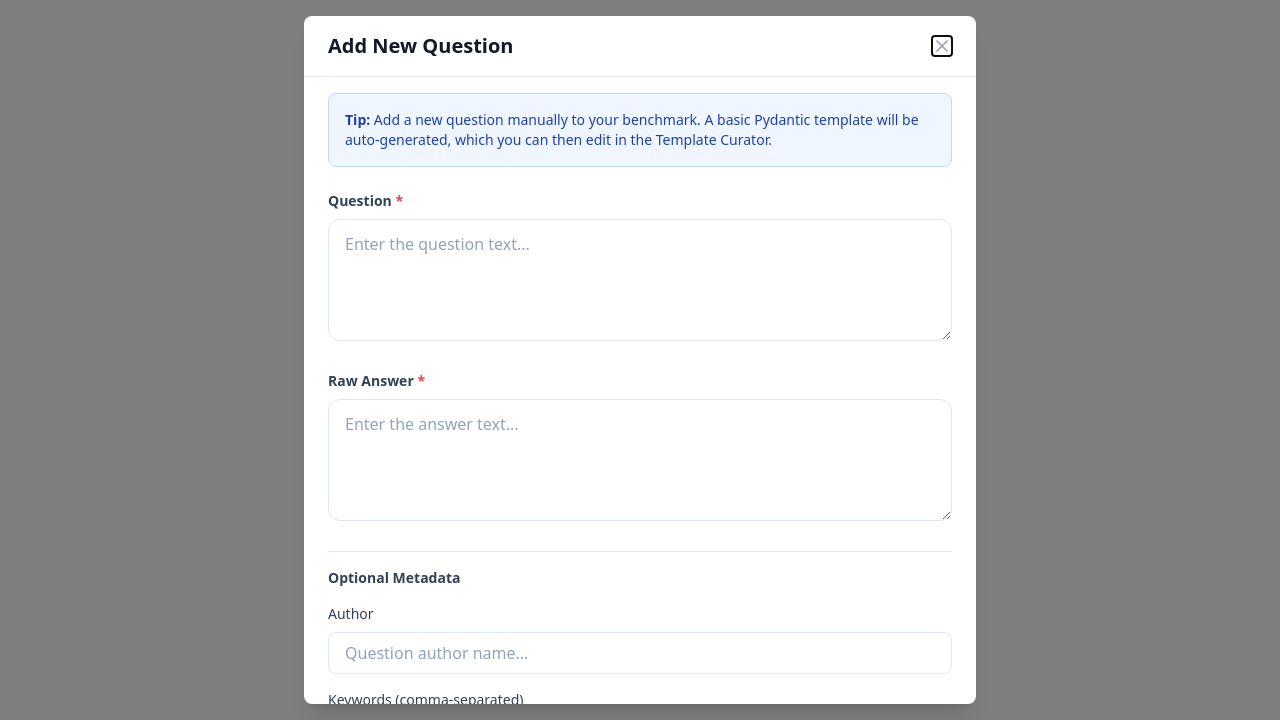
Test: AddQuestionModal › Template Generation › displays generate template button when both fields are filled
In the text box with placeholder "Enter the question text...": (640, 280) 328,219 -> 952,341, type "What is 2+2?"
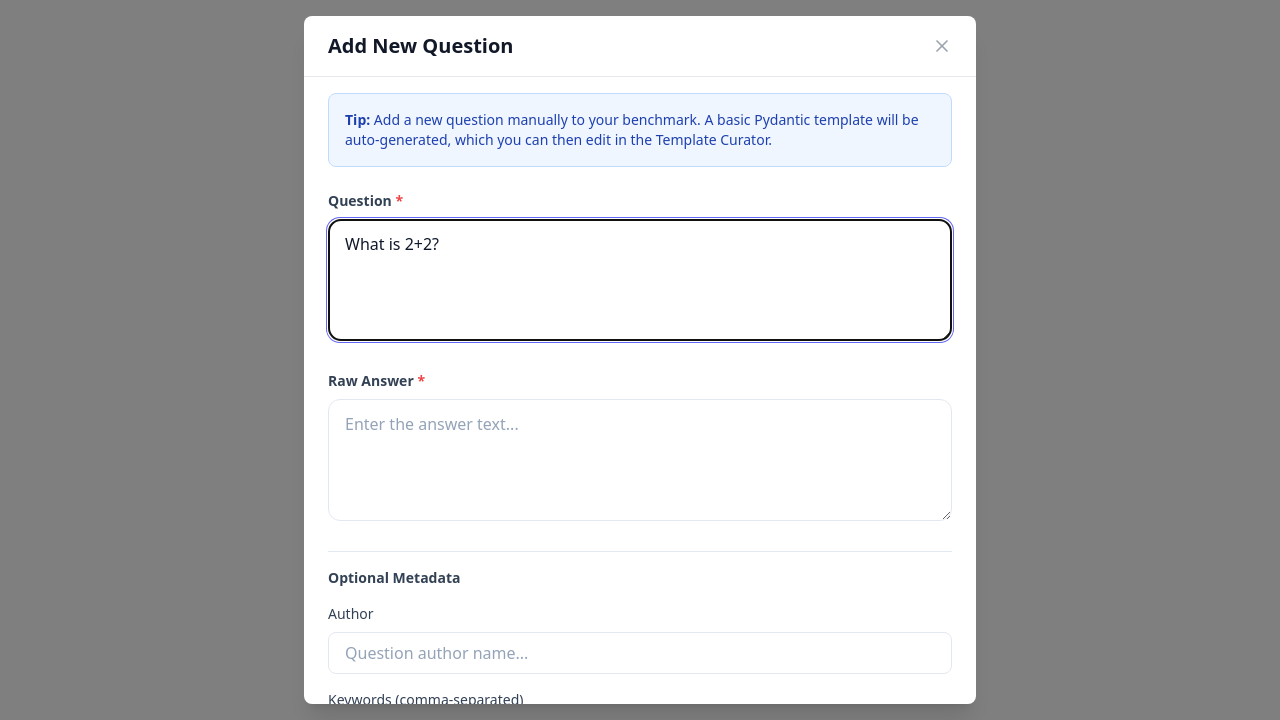
In the text box with placeholder "Enter the answer text...": (640, 460) 328,399 -> 952,521, type "The answer is 4"
(page scrolled)
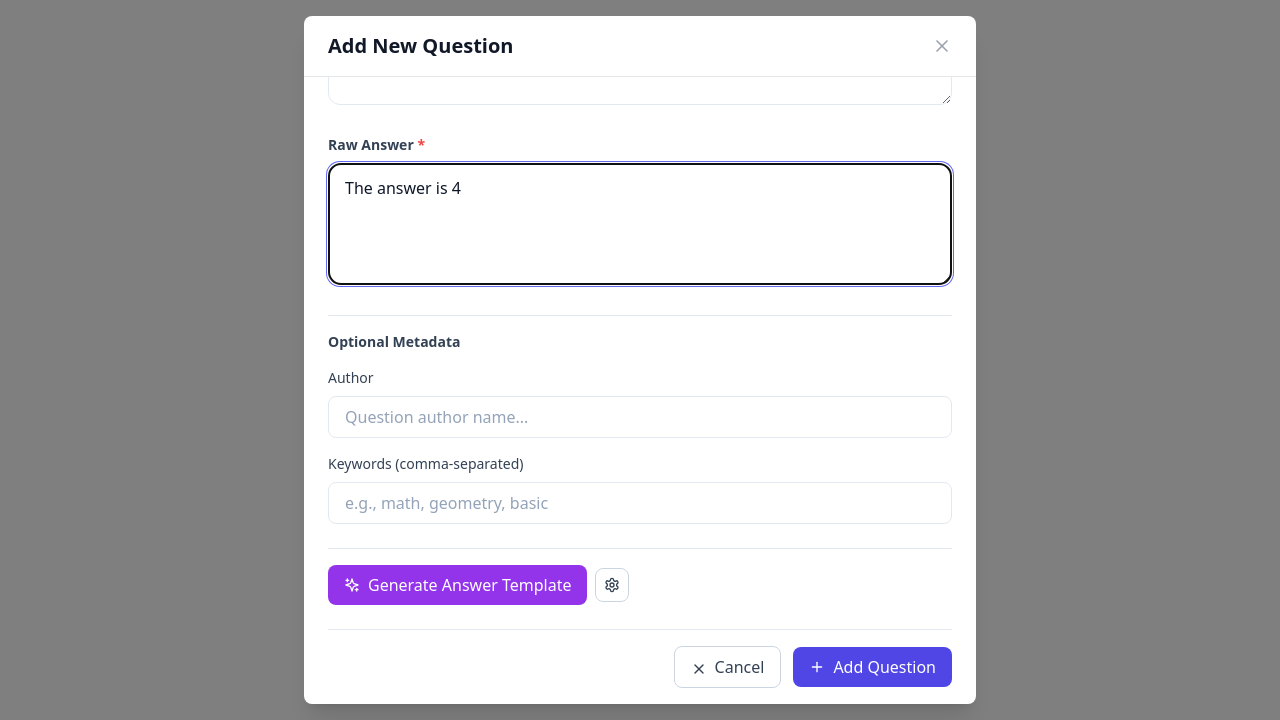
Check: the button "Generate Answer Template" is enabled, box 328,565 -> 588,605
